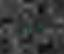one: (18, 21, 26, 34)
six: (28, 20, 36, 33), (37, 19, 45, 32)
